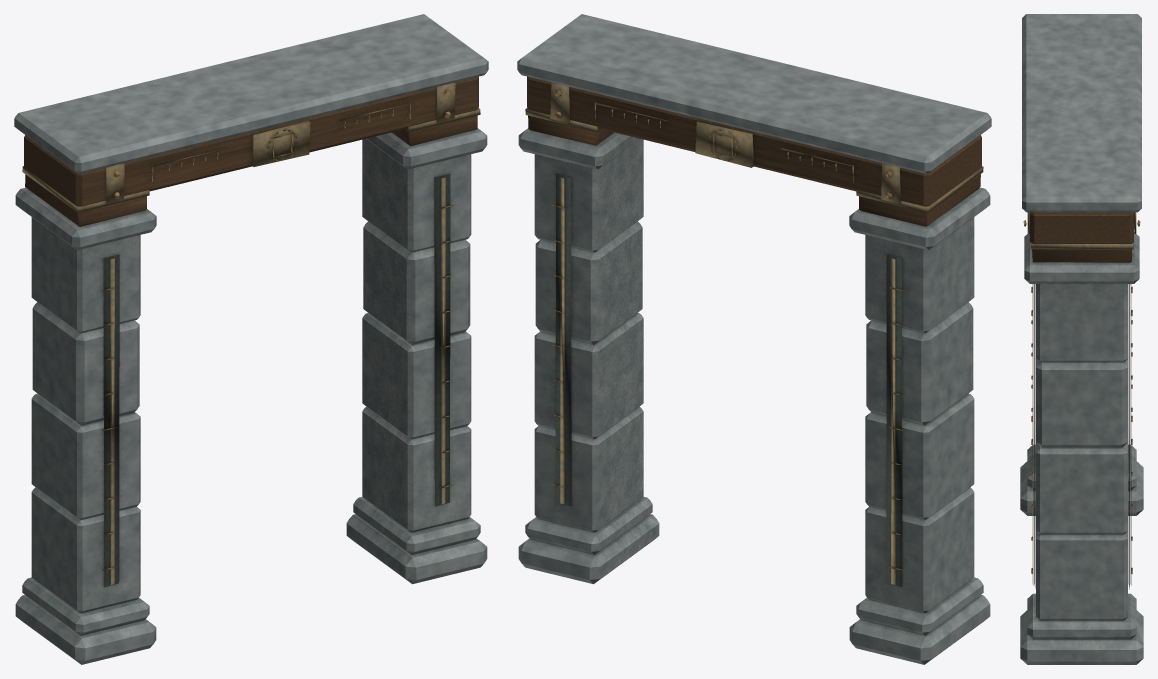
File: PortalGate_LOD1.fbx
3 views of the same model, side by side, from view 1: azimuth 30°, elevation 25°; view 2: azimuth 150°, elevation 25°; view 3: azimuth 270°, elevation 25° (orthographic). The views are drawn at different scales.
Visible parts, largest first — view 1: PortalGate_Mesh; view 2: PortalGate_Mesh; view 3: PortalGate_Mesh.
Part boxes in pixels (x1=…): PortalGate_Mesh: x1=14, y1=14, x2=488, y2=664; PortalGate_Mesh: x1=517, y1=14, x2=991, y2=664; PortalGate_Mesh: x1=1020, y1=14, x2=1143, y2=664.
Bounding box in the file's own units: 2.8 × 3.28 × 0.78.
